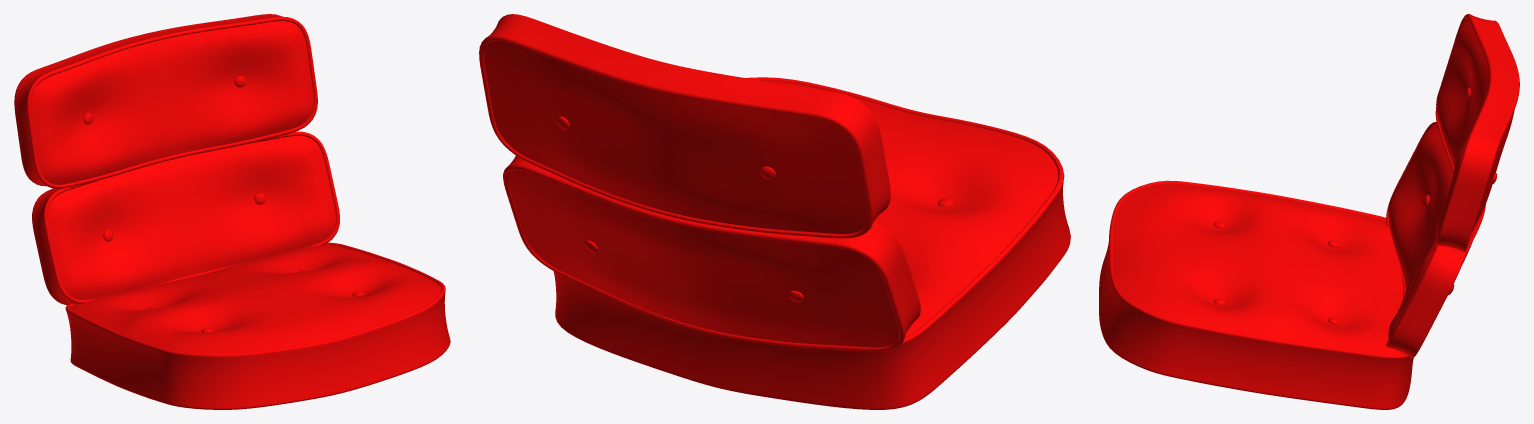
Rendered from chairTest2.glb.
The picture shows the model from 3 angles, left to right: view 1: azimuth 30°, elevation 25°; view 2: azimuth 150°, elevation 25°; view 3: azimuth 270°, elevation 25°; orthographic projection. The views are drawn at different scales.
Parts seen in each view (by area): view 1: body; view 2: body; view 3: body.
Part boxes in pixels (x1=…): body: x1=14, y1=14, x2=450, y2=409; body: x1=479, y1=14, x2=1070, y2=409; body: x1=1099, y1=14, x2=1519, y2=409.
Size of the model in its own units: 0.5696 by 0.5075 by 0.6916.
